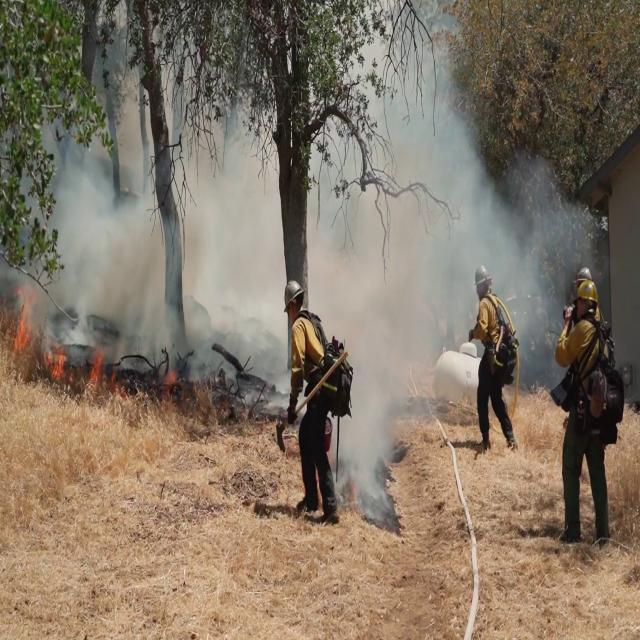Fire: (12, 279, 37, 355)
Smoke: (316, 0, 582, 402), (43, 81, 282, 369)
